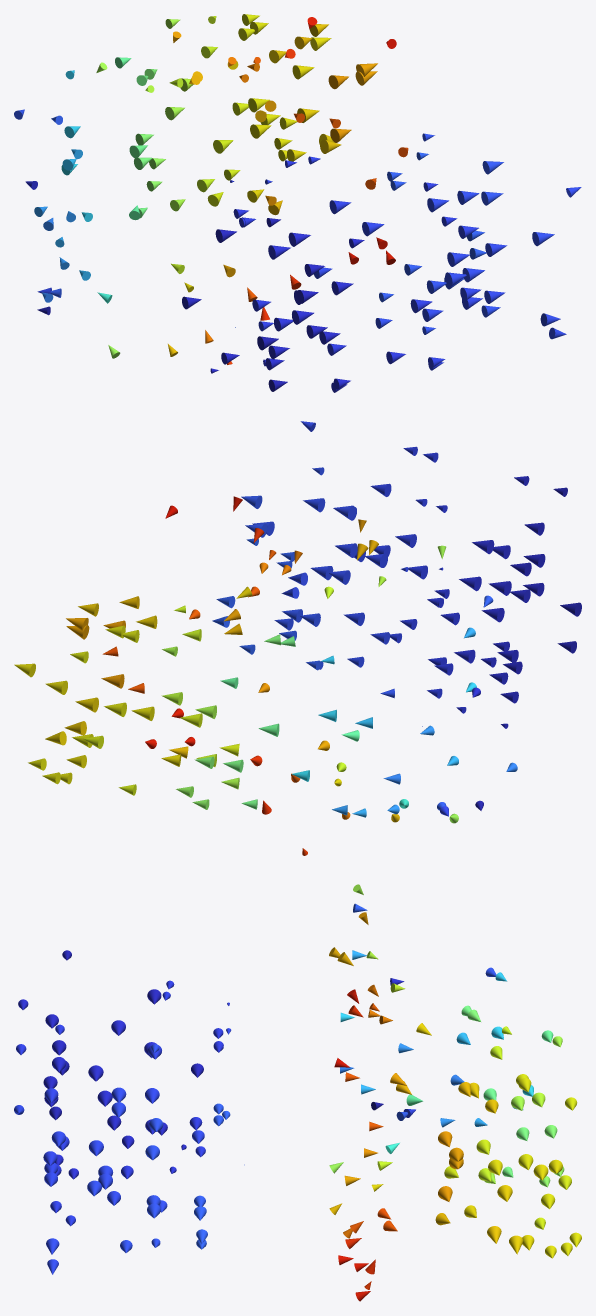
Rendered from LineasCorrienteN2-H2O_mh2-2.70_V-0.8.glb.
3 views of the same model, one above another, from view 1: azimuth 30°, elevation 25°; view 2: azimuth 150°, elevation 25°; view 3: azimuth 270°, elevation 25° (orthographic).
Size of the model in its own units: 0.000969 by 0.000816 by 0.0012.
Materials: 2 (2 with a texture image).
